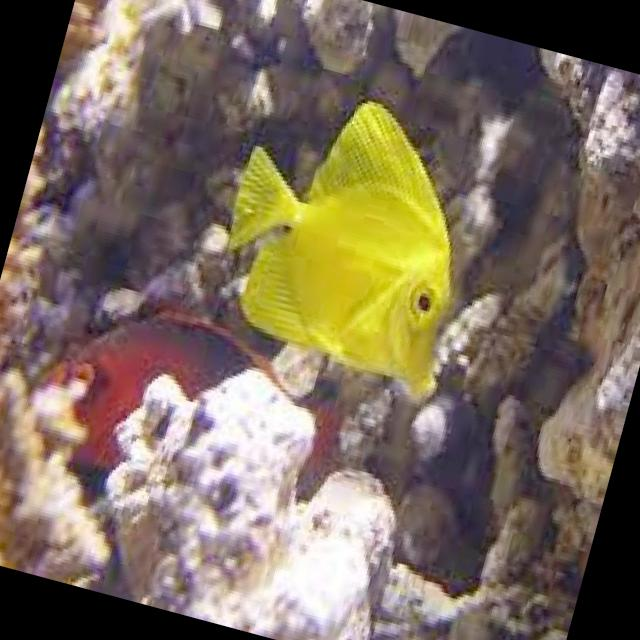TangFish: (201, 70, 502, 392)
